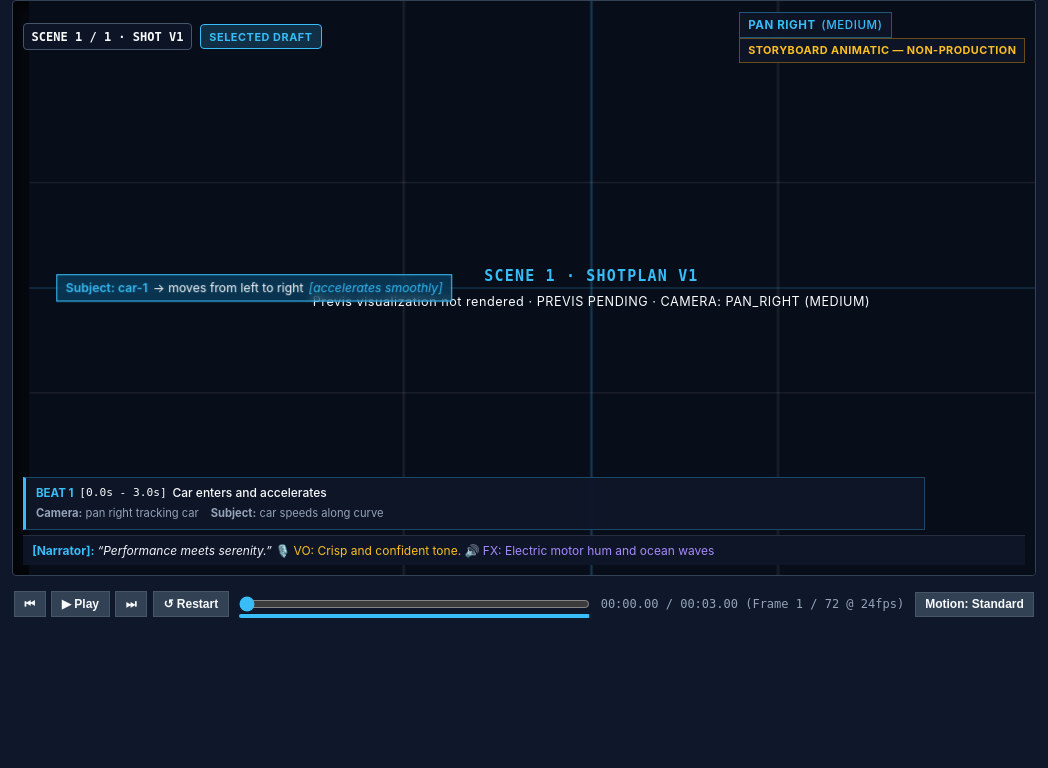
Test: CampaignAnimaticPlayer Component › toggles play and pause on click
This screenshot has width=1048, height=768.
Click the button with test id "animatic-play-toggle": (80, 604) [51,591,110,617]
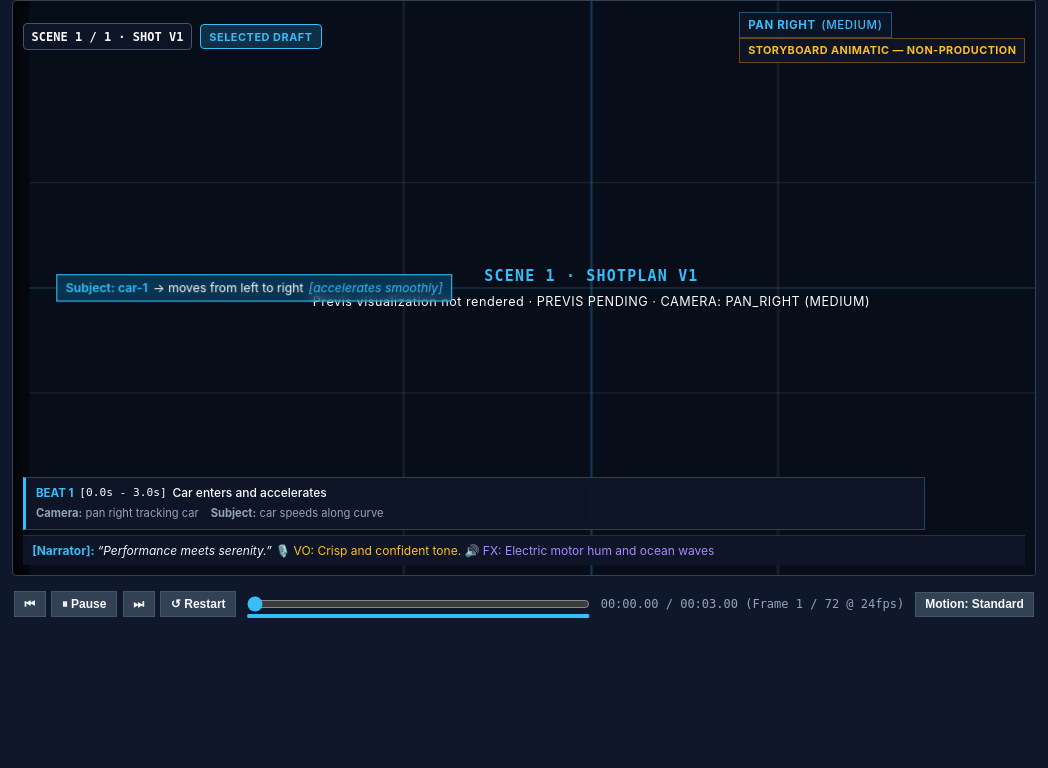
Check: the button with test id "animatic-play-toggle" reads "⏸ Pause"
Click the button with test id "animatic-play-toggle": (84, 604) [51,591,117,617]
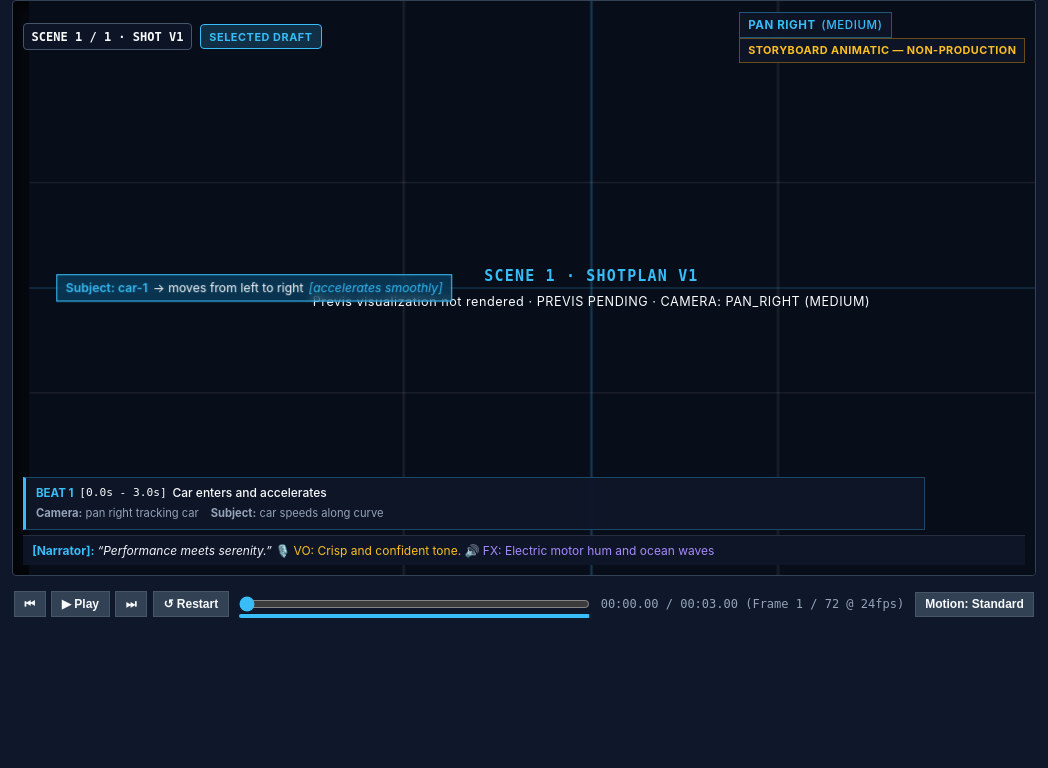
Check: the button with test id "animatic-play-toggle" reads "▶ Play", box [51,591,110,617]
